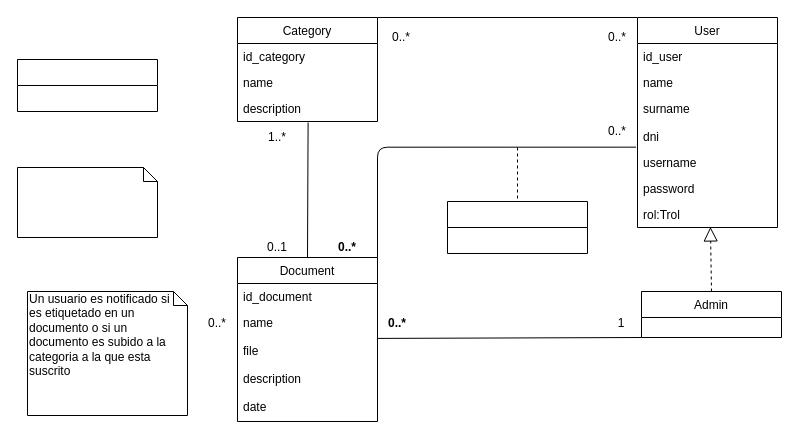
Some shapes in this 799 by 442 pixel diagram are drawn without their labels. The shapes that lost their labels are listed below. From the top down, each one's centre as x and y in pixels, then its label:
At point 87,85: "TRoles".
At point 87,202: "Un admin puede subir un documento, pero cualquier admin es capaz de editarlo.".
At point 517,227: "Notification".
